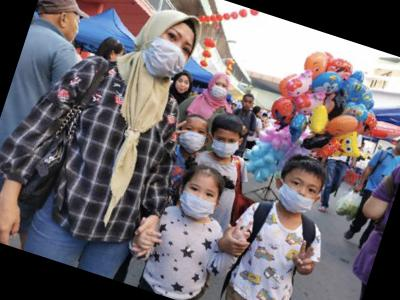mask_weared_incorrect: (274, 171, 323, 217)
with_mask: (140, 21, 197, 82), (174, 178, 222, 223), (173, 118, 211, 157), (208, 128, 243, 162), (208, 77, 230, 101)
without_mask: (59, 10, 85, 45), (172, 72, 194, 97), (241, 97, 256, 112), (394, 138, 400, 157)
